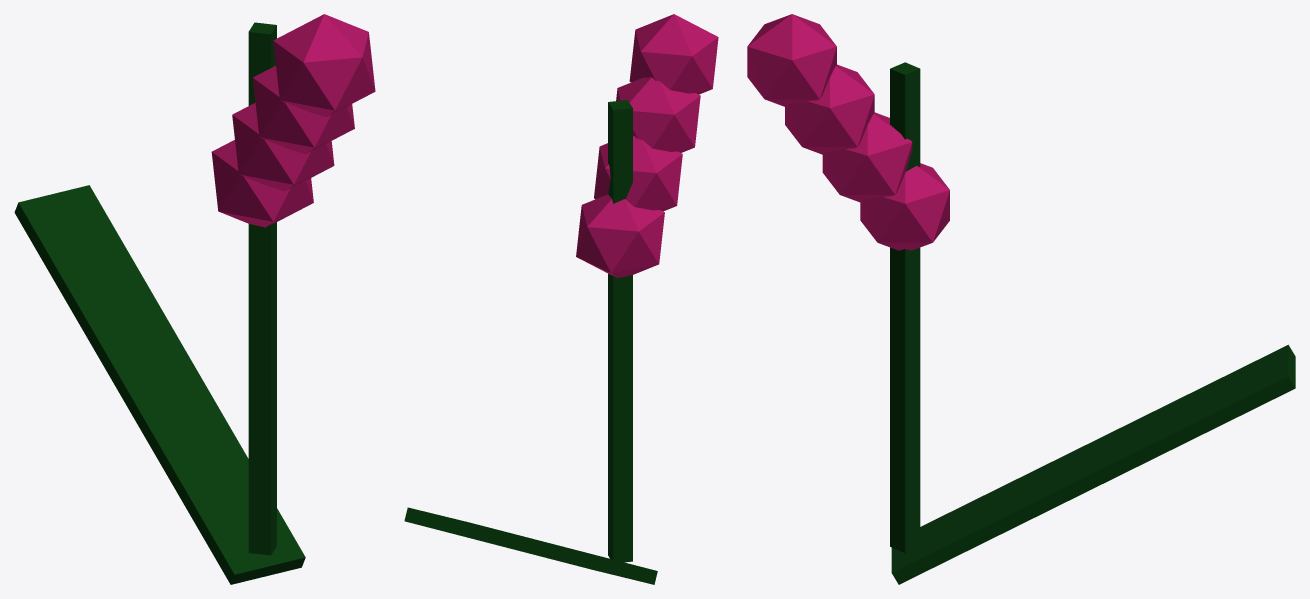
The model's file is orchid.obj.
3 renders of one model, left to right at view 1: azimuth 30°, elevation 25°; view 2: azimuth 150°, elevation 25°; view 3: azimuth 270°, elevation 25°, orthographic. The views are drawn at different scales.
Visible parts, largest first — view 1: orchid; view 2: orchid; view 3: orchid.
Part boxes in pixels (left/top/right/bottom): orchid: left=14, top=14, right=375, bottom=584; orchid: left=404, top=14, right=718, bottom=584; orchid: left=747, top=14, right=1295, bottom=584.
Bounding box in the file's own units: 0.1252 × 0.8126 × 0.7276.
